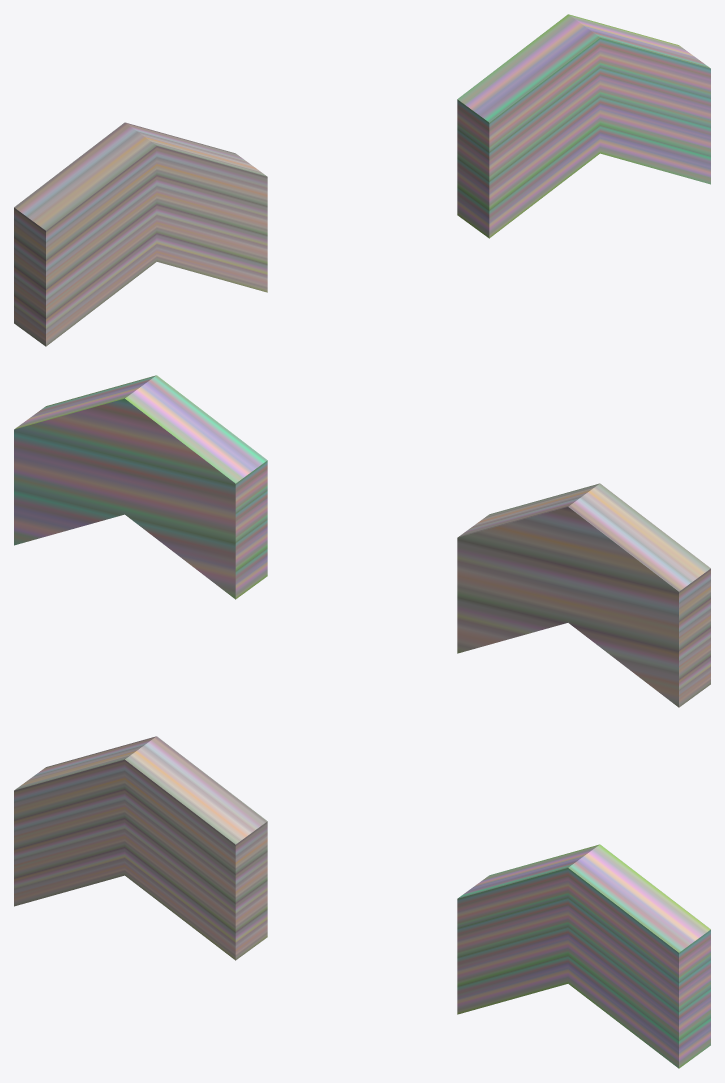
File: construct_eyes_happy.obj
3 views of the same model, one above another, from view 1: azimuth 30°, elevation 25°; view 2: azimuth 150°, elevation 25°; view 3: azimuth 330°, elevation 25° (orthographic).
Visible parts, largest first — view 1: EYES_HAPPY_Cube.037; view 2: EYES_HAPPY_Cube.037; view 3: EYES_HAPPY_Cube.037.
Boxes of the visible parts, box(x1,y1,x2,y2) form: EYES_HAPPY_Cube.037: box(14, 14, 710, 346); EYES_HAPPY_Cube.037: box(14, 375, 710, 707); EYES_HAPPY_Cube.037: box(14, 736, 710, 1068).
Bounding box in the file's own units: 0.1875 × 0.0469 × 0.0156.
